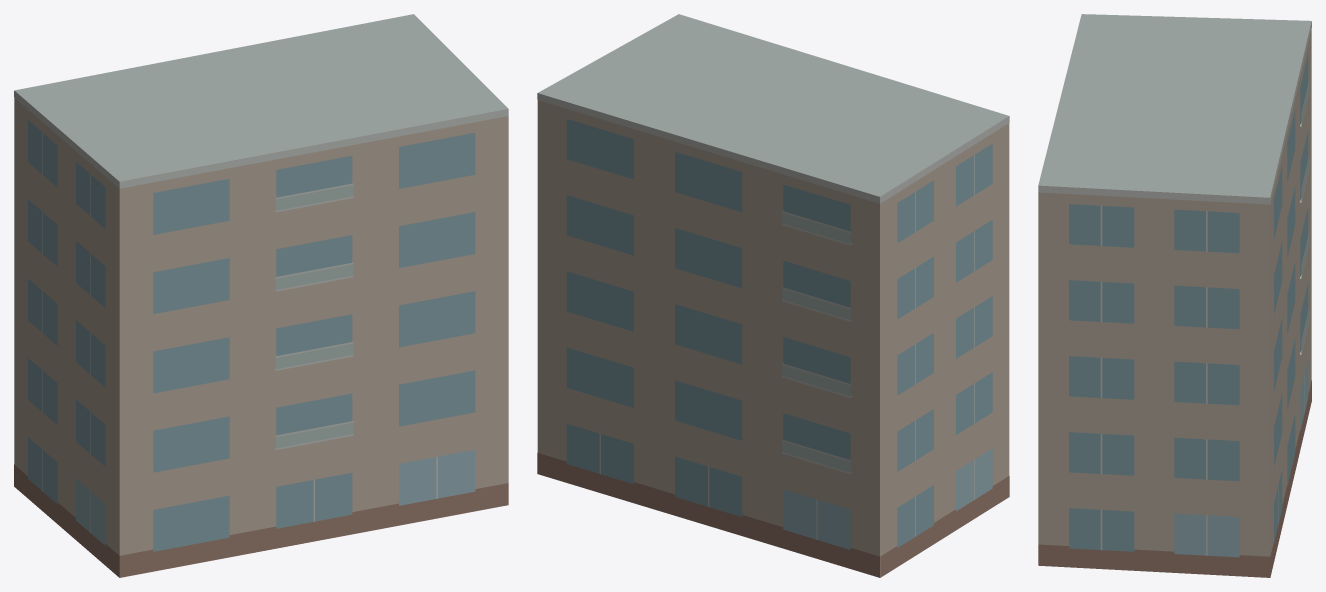
File: survey-upis-32752851.glb
3 renders of one model, left to right at view 1: azimuth 30°, elevation 25°; view 2: azimuth 150°, elevation 25°; view 3: azimuth 270°, elevation 25°, orthographic. The views are drawn at different scales.
Parts seen in each view (by area): view 1: survey-upis-32752851.tmp; view 2: survey-upis-32752851.tmp; view 3: survey-upis-32752851.tmp.
Boxes of the visible parts, x1=… form: survey-upis-32752851.tmp: x1=14, y1=14, x2=508, y2=577; survey-upis-32752851.tmp: x1=537, y1=14, x2=1009, y2=577; survey-upis-32752851.tmp: x1=1038, y1=14, x2=1311, y2=577.
Bounding box in the file's own units: 14.22 × 13.7 × 8.95.
